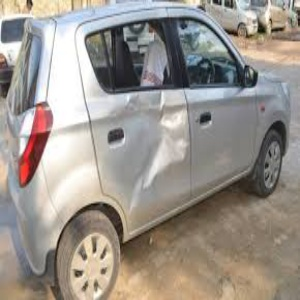door: (108, 97, 235, 208)
